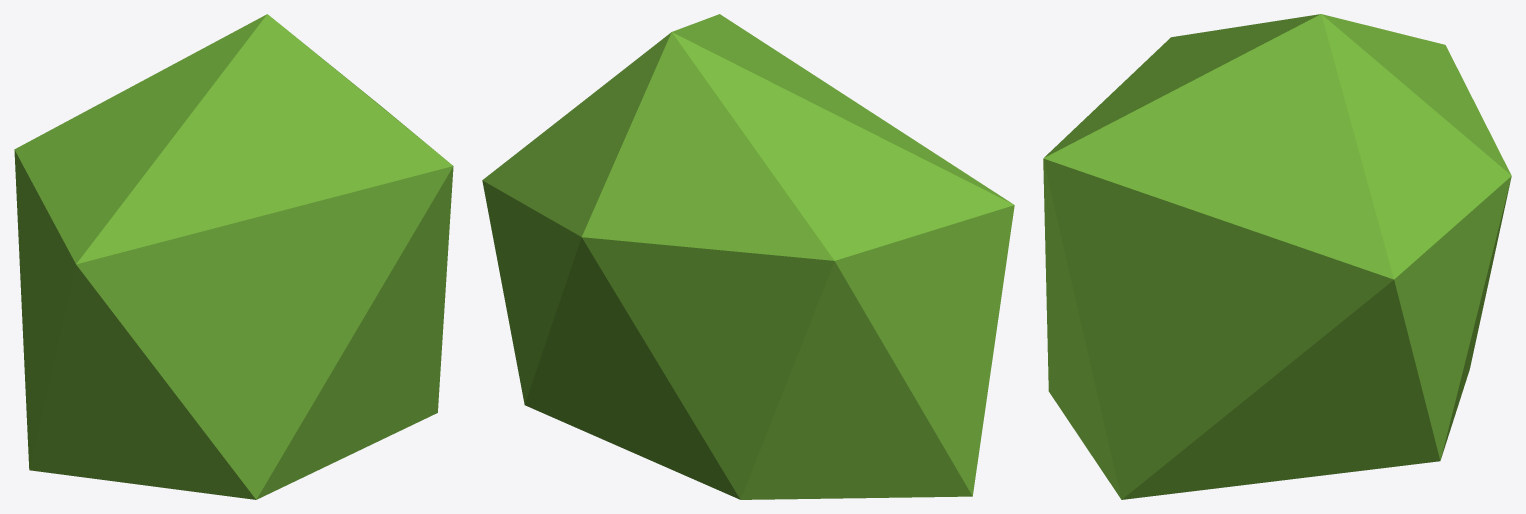
The model's file is Bush2.fbx.
3 renders of one model, left to right at view 1: azimuth 30°, elevation 25°; view 2: azimuth 150°, elevation 25°; view 3: azimuth 270°, elevation 25°, orthographic. The views are drawn at different scales.
Visible parts, largest first — view 1: Bush_2a; view 2: Bush_2a; view 3: Bush_2a.
Boxes of the visible parts, x1=… form: Bush_2a: x1=14, y1=14, x2=453, y2=499; Bush_2a: x1=482, y1=14, x2=1014, y2=499; Bush_2a: x1=1043, y1=14, x2=1511, y2=499.
Bounding box in the file's own units: 178 × 172 × 149.
